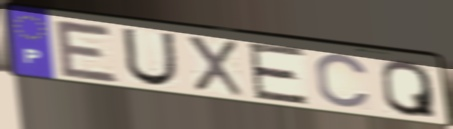C: (313, 52, 374, 110)
E: (50, 17, 122, 86), (245, 41, 312, 106)
Q: (379, 59, 439, 120)
U: (119, 26, 179, 88)
X: (183, 33, 247, 99)
